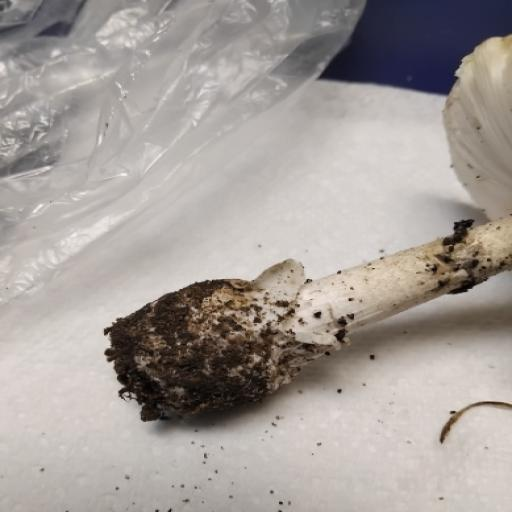Death Cap: (65, 31, 512, 449)
